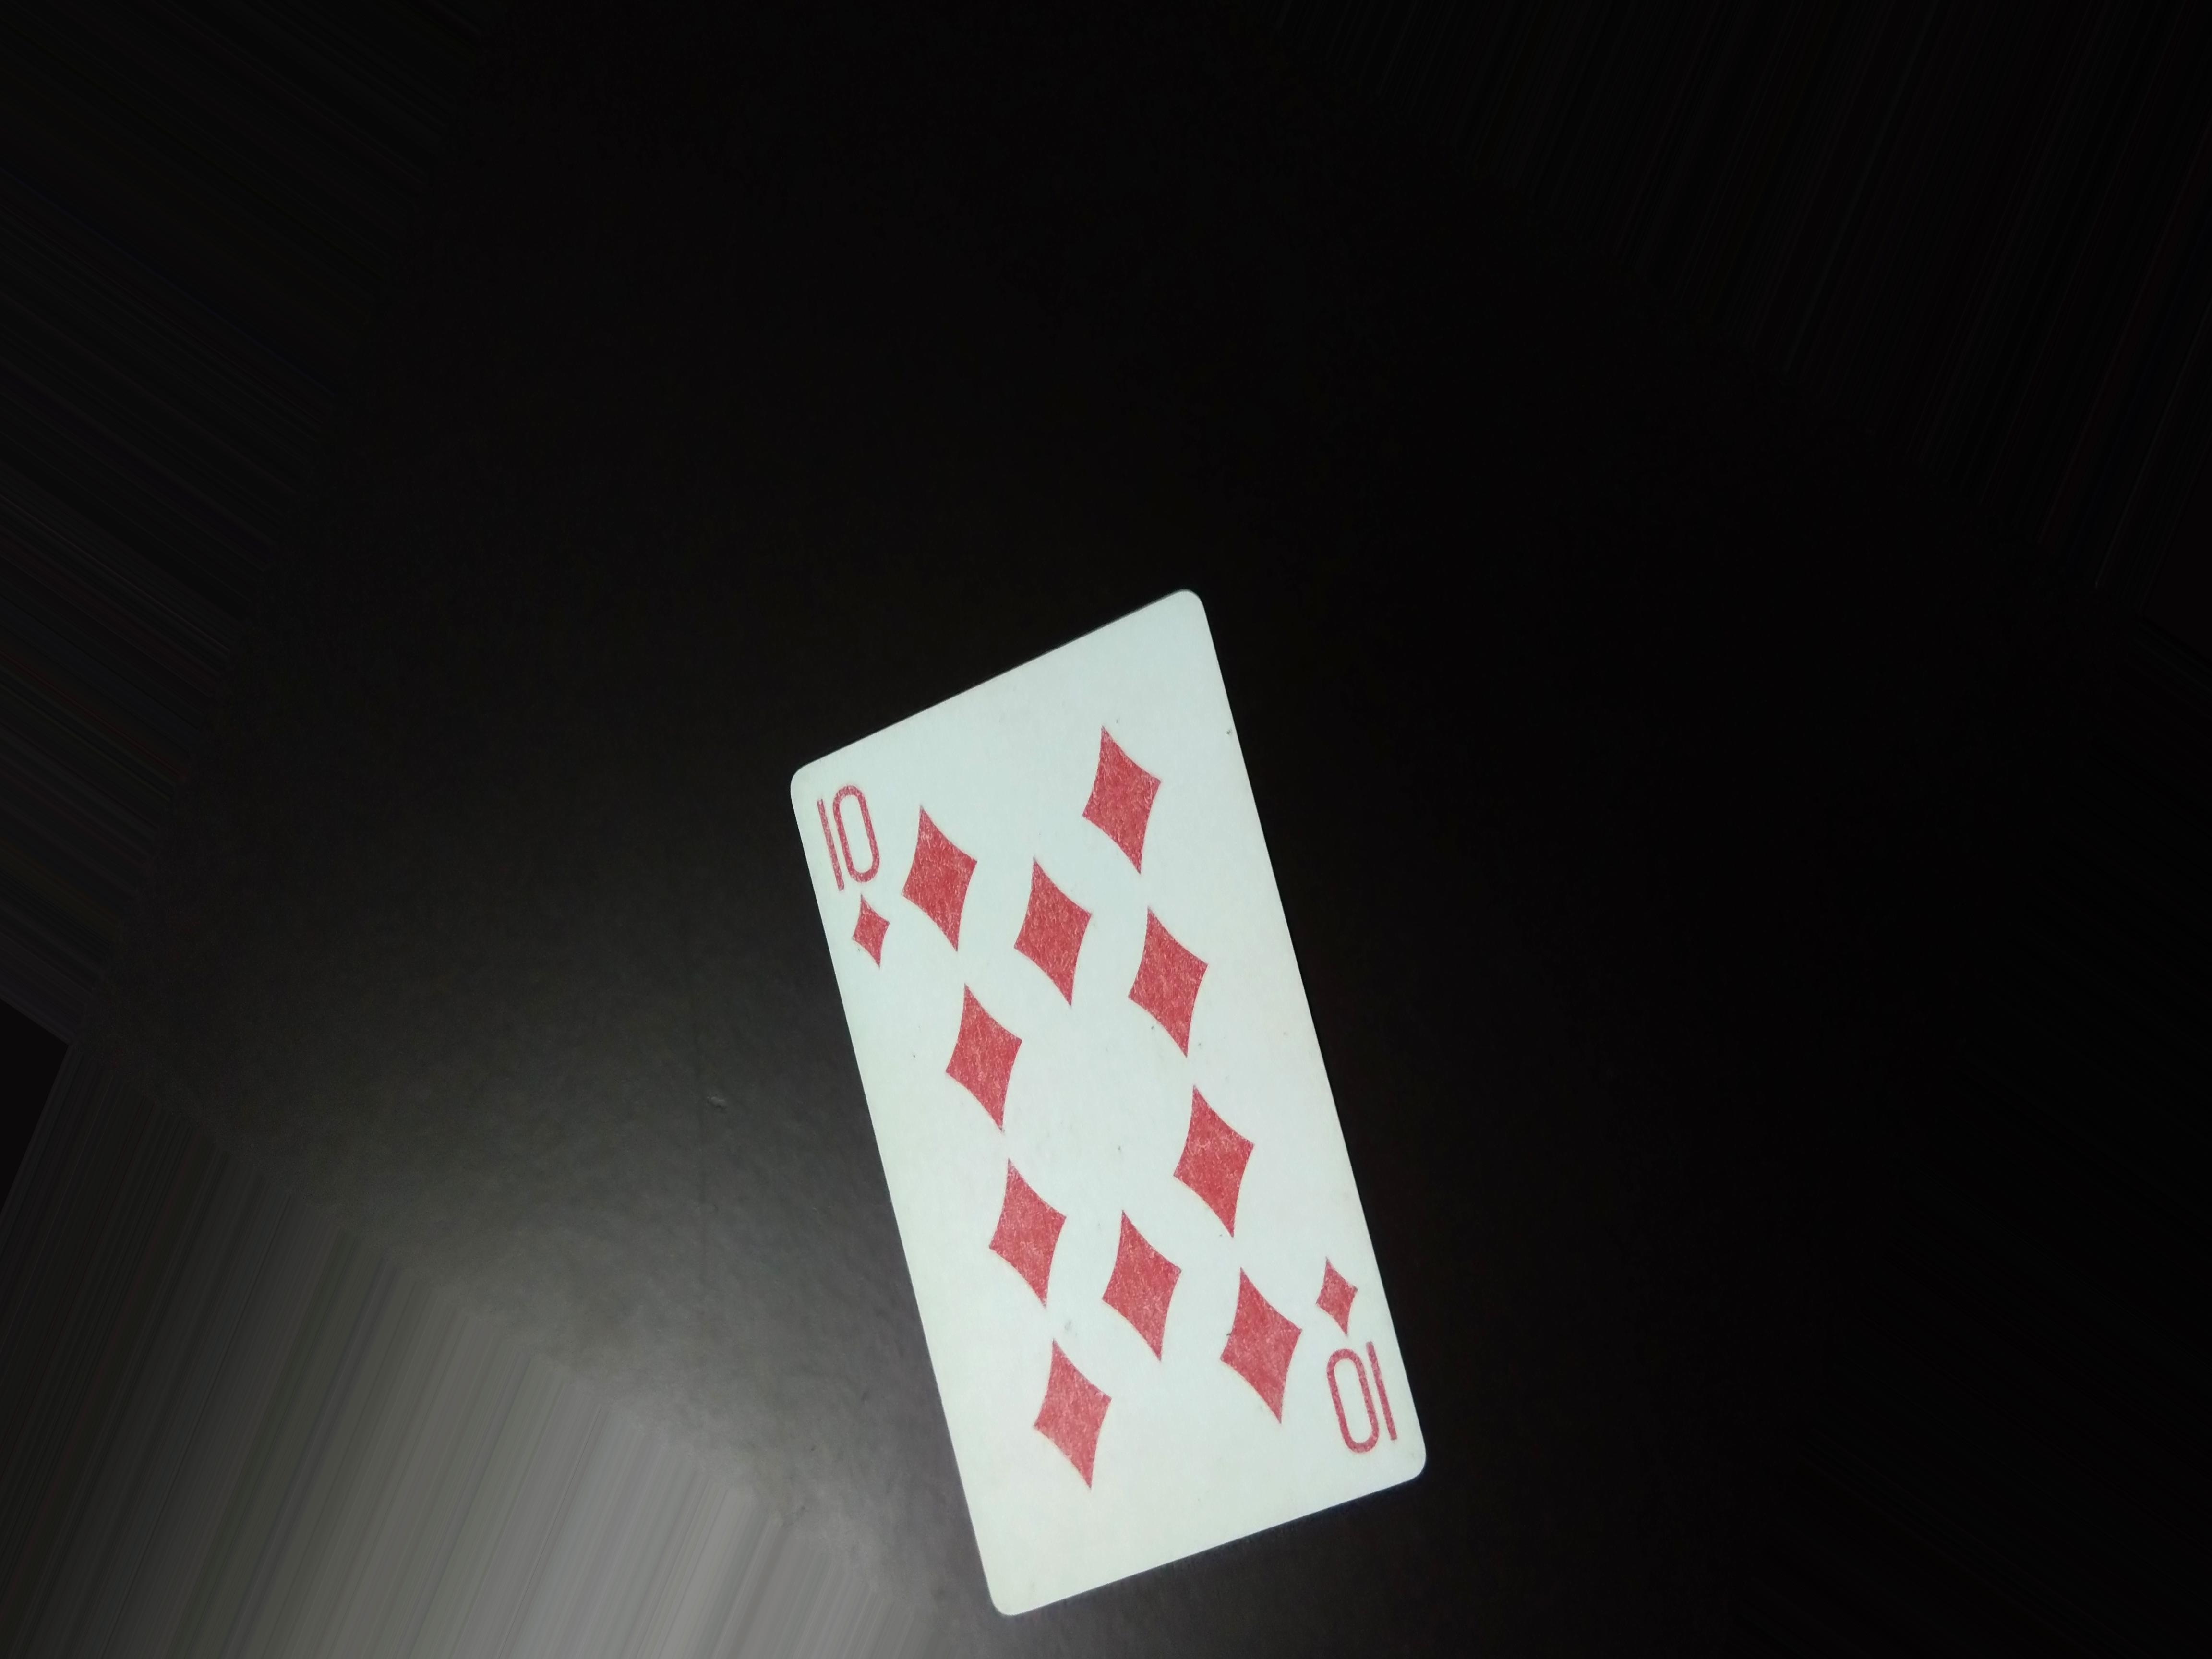10D: (806, 763, 907, 978)
